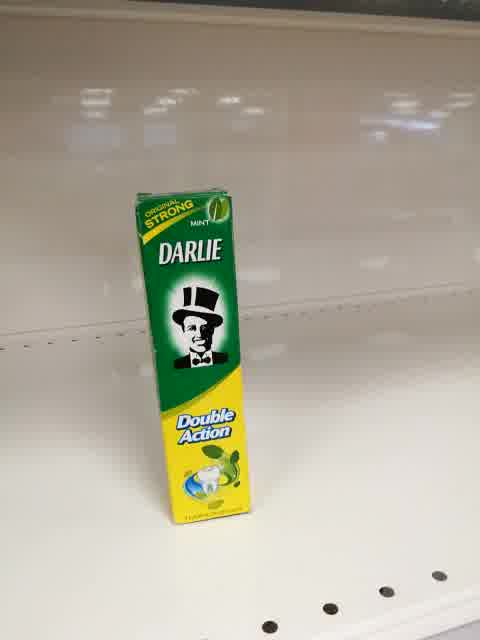toothpaste: (132, 187, 251, 527)
